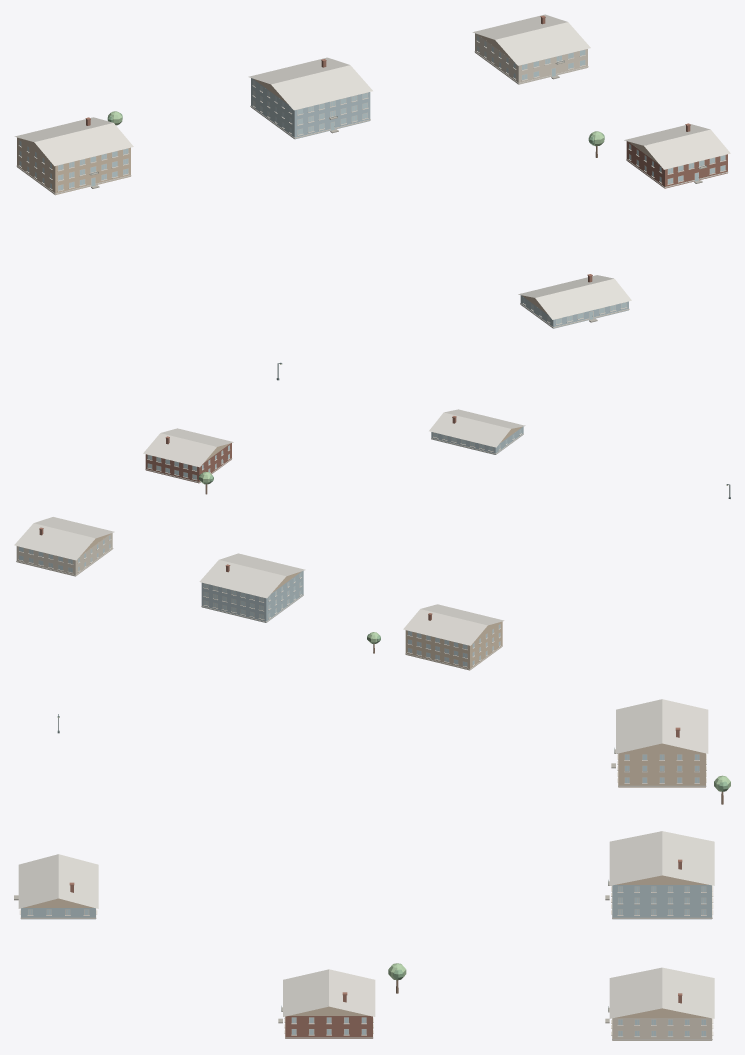
Rendered from chunk_6_1_high.glb.
3 renders of one model, top to bottom at view 1: azimuth 30°, elevation 25°; view 2: azimuth 150°, elevation 25°; view 3: azimuth 270°, elevation 25°, orthographic. The views are drawn at different scales.
Parts seen in each view (by area): view 1: city_roof_tile, city_trim, city_wall_blue, city_wall_sand, city_glass, city_world_brick, city_wall_cream; view 2: city_roof_tile, city_trim, city_wall_blue, city_wall_sand, city_glass, city_wall_cream, city_world_brick; view 3: city_roof_tile, city_wall_sand, city_wall_blue, city_trim, city_world_brick, city_wall_cream, city_glass.
Boxes of the visible parts, x1,y1,x2,y2 form: city_roof_tile: [14, 14, 730, 319]; city_trim: [16, 35, 728, 328]; city_wall_blue: [251, 78, 628, 328]; city_wall_sand: [17, 34, 659, 314]; city_glass: [19, 36, 725, 324]; city_world_brick: [85, 15, 727, 282]; city_wall_cream: [475, 33, 587, 84]; city_roof_tile: [14, 409, 525, 645]; city_trim: [16, 429, 523, 669]; city_wall_blue: [201, 426, 523, 622]; city_wall_sand: [80, 426, 522, 670]; city_glass: [19, 429, 521, 666]; city_wall_cream: [16, 533, 112, 576]; city_world_brick: [39, 416, 456, 620]; city_roof_tile: [18, 699, 714, 1018]; city_wall_sand: [23, 743, 708, 1017]; city_wall_blue: [21, 885, 711, 919]; city_trim: [19, 754, 713, 1040]; city_world_brick: [69, 727, 682, 1038]; city_wall_cream: [612, 1018, 711, 1040]; city_glass: [28, 754, 705, 1036].
Size of what is drawn, in the model's own units: 176 by 13.18 by 172.
